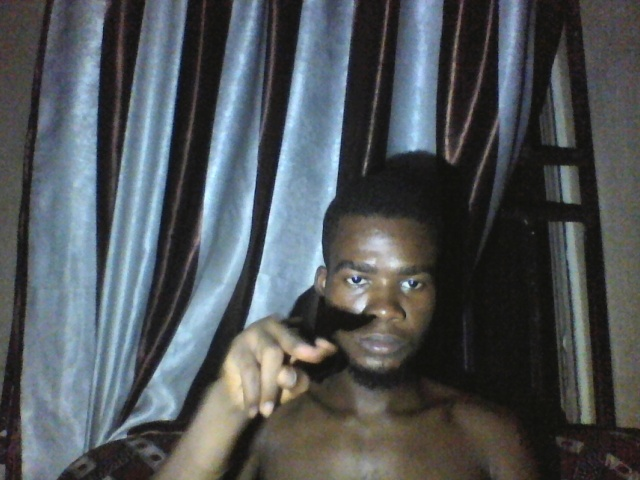no: (220, 311, 334, 431)
